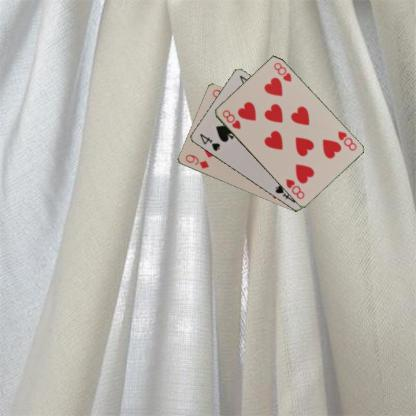4s: (197, 131, 221, 153)
8h: (335, 128, 358, 152), (219, 107, 242, 130)
9d: (183, 152, 210, 170)
